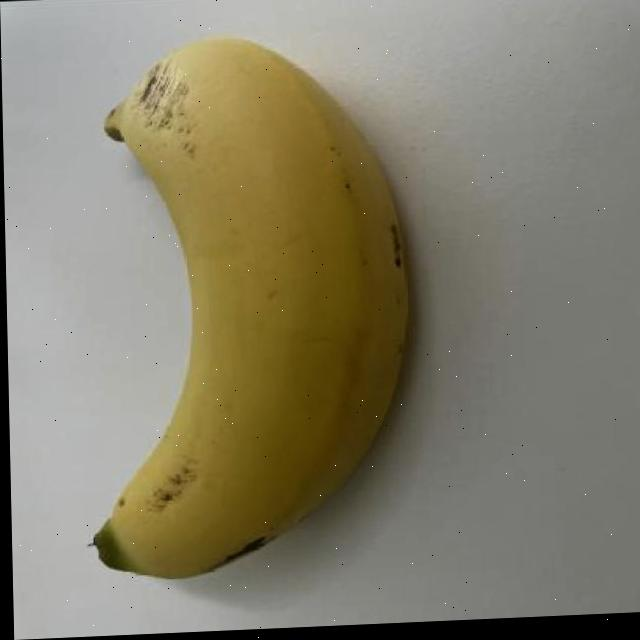banana: (71, 28, 420, 582)
